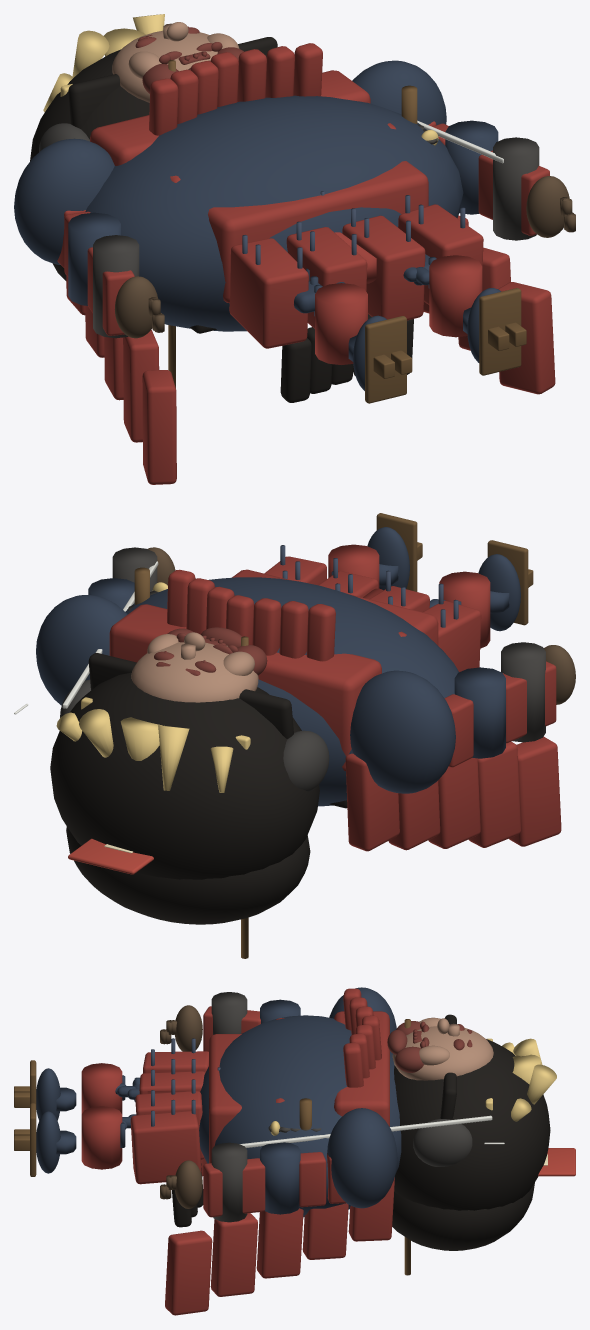
The model's file is samurai_character_v8.glb.
3 views of the same model, one above another, from view 1: azimuth 30°, elevation 25°; view 2: azimuth 150°, elevation 25°; view 3: azimuth 270°, elevation 25° (orthographic). The views are drawn at different scales.
Parts seen in each view (by area): view 1: v8_torso_underlayer, left_rounded_shoulder_v8, v8_torso_lower, v8_kusazuri_0, v8_kusazuri_2, v8_side_plate_right_4, v8_side_plate_left_4, right_shin_guard_v8, left_shin_guard_v8, right_forearm_kote_v8, right_rounded_shoulder_v8, v8_kabuto_dome (+33 smaller); view 2: v8_kabuto_dome, v8_torso_underlayer, left_rounded_shoulder_v8, v8_helmet_rear_flare, v8_chest_upper, right_rounded_shoulder_v8, v8_face_base, v8_side_plate_left_4, v8_side_plate_left_3, v8_side_plate_left_0, left_upper_arm_v8, v8_side_plate_left_2 (+34 smaller); view 3: v8_kabuto_dome, v8_torso_underlayer, right_rounded_shoulder_v8, v8_helmet_rear_flare, v8_kusazuri_3, v8_side_plate_right_4, v8_side_plate_right_3, v8_side_plate_right_2, v8_face_base, v8_chest_upper, right_upper_arm_v8, right_shin_guard_v8 (+34 smaller).
Boxes of the visible parts, left/top/right/bottom form: v8_torso_underlayer: left=85, top=95, right=463, bottom=331; left_rounded_shoulder_v8: left=14, top=138, right=114, bottom=264; v8_torso_lower: left=208, top=161, right=428, bottom=303; v8_kusazuri_0: left=229, top=238, right=308, bottom=348; v8_kusazuri_2: left=342, top=215, right=425, bottom=320; v8_side_plate_right_4: left=498, top=282, right=555, bottom=394; v8_side_plate_left_4: left=142, top=370, right=176, bottom=484; right_shin_guard_v8: left=429, top=255, right=482, bottom=337; left_shin_guard_v8: left=315, top=283, right=367, bottom=364; right_forearm_kote_v8: left=493, top=137, right=539, bottom=240; right_rounded_shoulder_v8: left=352, top=60, right=446, bottom=125; v8_kabuto_dome: left=30, top=49, right=149, bottom=161; v8_kabuto_dome: left=50, top=672, right=319, bottom=879; v8_torso_underlayer: left=125, top=577, right=458, bottom=806; left_rounded_shoulder_v8: left=350, top=670, right=455, bottom=793; v8_helmet_rear_flare: left=66, top=826, right=310, bottom=924; v8_chest_upper: left=109, top=604, right=381, bottom=771; right_rounded_shoulder_v8: left=36, top=595, right=127, bottom=705; v8_face_base: left=131, top=642, right=258, bottom=702; v8_side_plate_left_4: left=509, top=736, right=561, bottom=846; v8_side_plate_left_3: left=468, top=741, right=521, bottom=847; v8_side_plate_left_0: left=345, top=753, right=399, bottom=851; left_upper_arm_v8: left=454, top=667, right=505, bottom=758; v8_side_plate_left_2: left=428, top=758, right=480, bottom=848; v8_kabuto_dome: left=394, top=1039, right=550, bottom=1210; v8_torso_underlayer: left=199, top=1015, right=401, bottom=1217; right_rounded_shoulder_v8: left=327, top=1108, right=397, bottom=1208; v8_helmet_rear_flare: left=392, top=1182, right=534, bottom=1250; v8_kusazuri_3: left=130, top=1111, right=201, bottom=1184; v8_side_plate_right_4: left=165, top=1230, right=212, bottom=1315; v8_side_plate_right_3: left=210, top=1213, right=257, bottom=1296; v8_side_plate_right_2: left=256, top=1208, right=303, bottom=1278; v8_face_base: left=392, top=1026, right=493, bottom=1080; v8_chest_upper: left=334, top=1011, right=389, bottom=1126; right_upper_arm_v8: left=260, top=1142, right=300, bottom=1214; right_shin_guard_v8: left=81, top=1106, right=122, bottom=1169.
Size of the model in its own units: 0.79 by 0.5779 by 1.1.
